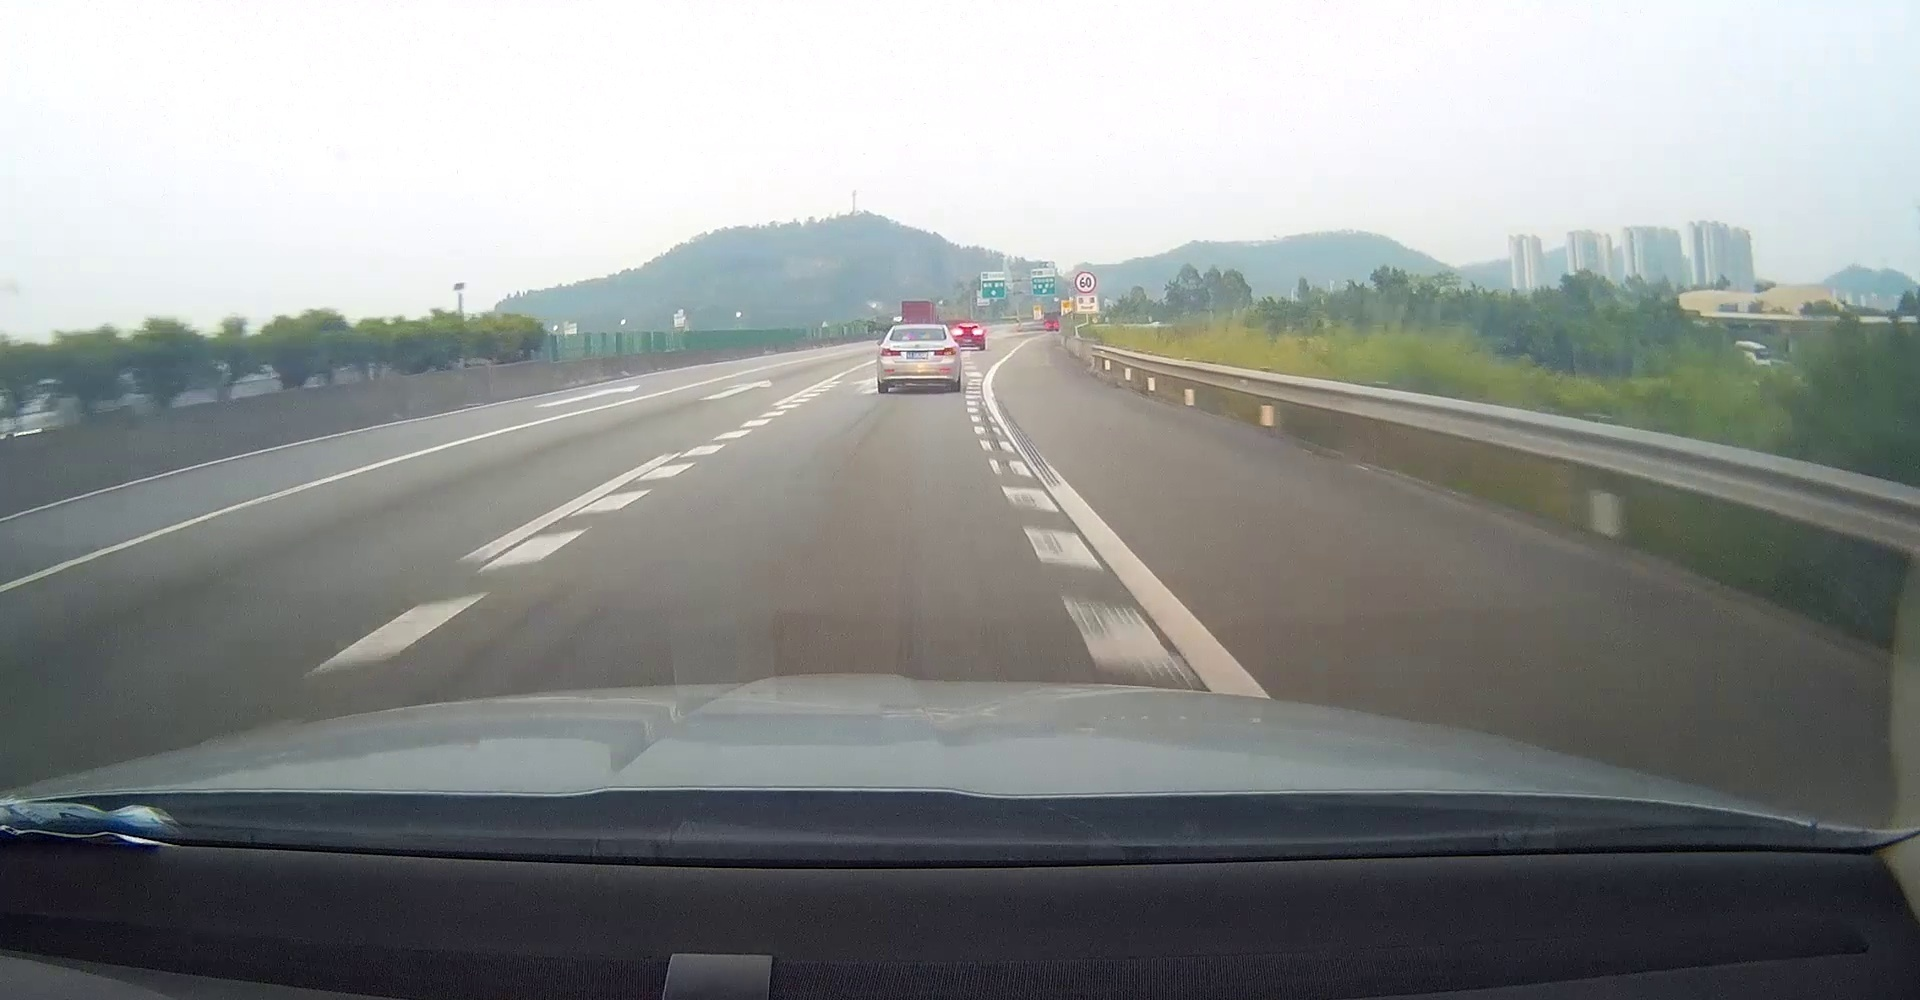L_light: (879, 348, 902, 357)
R_light: (933, 348, 957, 357)
T_light: (910, 326, 924, 330)
day-no: (876, 324, 961, 393)
